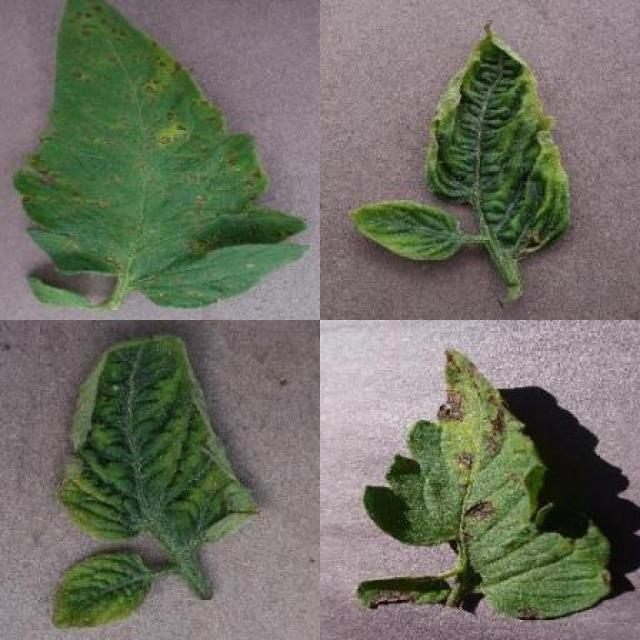Early Blight: (364, 346, 610, 624)
Septoria: (15, 0, 308, 310)
Yellow Leaf Curl Virus: (55, 331, 259, 546), (427, 22, 572, 258), (53, 550, 153, 629), (351, 198, 465, 261)
